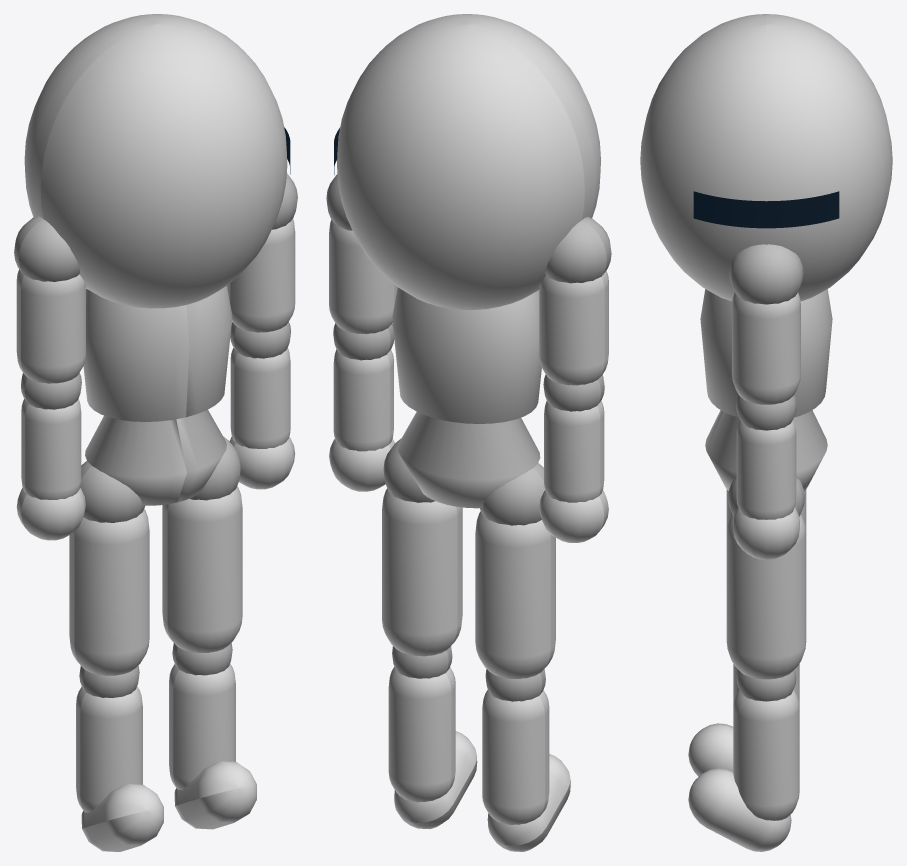
File: child.glb
The picture shows the model from 3 angles, left to right: view 1: azimuth 30°, elevation 25°; view 2: azimuth 150°, elevation 25°; view 3: azimuth 270°, elevation 25°; orthographic projection.
Parts seen in each view (by area): view 1: HeadMesh, Torso, Thigh_L, Thigh_R, UpperArm_L, Shin_L, Shin_R, ForeArm_R, ForeArm_L, UpperArm_R, Foot_L, Foot_R (+10 smaller); view 2: HeadMesh, Torso, Thigh_L, Thigh_R, Shin_R, Shin_L, UpperArm_L, ForeArm_R, ForeArm_L, UpperArm_R, Joint_LS, Foot_R (+10 smaller); view 3: HeadMesh, Torso, Thigh_R, Shin_R, UpperArm_R, ForeArm_R, Foot_R, Visor, Joint_RS, Hand_R, Foot_L, Joint_RE (+2 smaller).
Boxes of the visible parts, left/top/right/bottom form: HeadMesh: left=24, top=14, right=287, bottom=308; Torso: left=83, top=286, right=232, bottom=505; Thigh_L: left=69, top=509, right=149, bottom=675; Thigh_R: left=162, top=486, right=242, bottom=652; UpperArm_L: left=16, top=269, right=85, bottom=383; Shin_L: left=76, top=686, right=142, bottom=812; Shin_R: left=169, top=663, right=235, bottom=790; ForeArm_R: left=230, top=348, right=290, bottom=448; ForeArm_L: left=21, top=399, right=81, bottom=499; UpperArm_R: left=227, top=219, right=295, bottom=332; Foot_L: left=81, top=784, right=163, bottom=851; Foot_R: left=174, top=761, right=256, bottom=829; HeadMesh: left=337, top=14, right=600, bottom=309; Torso: left=392, top=287, right=541, bottom=508; Thigh_L: left=475, top=511, right=555, bottom=678; Thigh_R: left=382, top=488, right=462, bottom=656; Shin_R: left=388, top=667, right=455, bottom=802; Shin_L: left=482, top=689, right=549, bottom=824; UpperArm_L: left=539, top=270, right=608, bottom=385; ForeArm_R: left=333, top=349, right=393, bottom=451; ForeArm_L: left=544, top=401, right=604, bottom=502; UpperArm_R: left=329, top=220, right=397, bottom=334; Joint_LS: left=545, top=217, right=611, bottom=283; Foot_R: left=394, top=731, right=477, bottom=828; HeadMesh: left=640, top=14, right=892, bottom=301; Torso: left=700, top=289, right=832, bottom=490; Thigh_R: left=726, top=514, right=806, bottom=679; Shin_R: left=733, top=689, right=799, bottom=820; UpperArm_R: left=732, top=292, right=800, bottom=404; ForeArm_R: left=736, top=420, right=796, bottom=519; Foot_R: left=688, top=768, right=791, bottom=851; Visor: left=693, top=191, right=839, bottom=228; Joint_RS: left=729, top=244, right=803, bottom=304; Hand_R: left=733, top=507, right=799, bottom=559; Foot_L: left=688, top=723, right=733, bottom=776; Joint_RE: left=736, top=395, right=796, bottom=430.
Size of the model in its own units: 0.472 by 1.33 by 0.3809.
